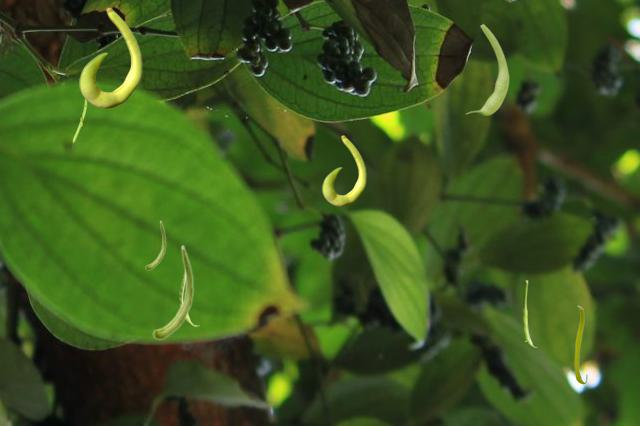french_bean: (79, 7, 141, 107), (465, 23, 508, 114), (152, 244, 193, 339), (322, 135, 365, 205), (179, 273, 198, 325), (145, 220, 165, 269), (574, 305, 586, 383), (522, 280, 536, 346), (72, 99, 86, 147)
